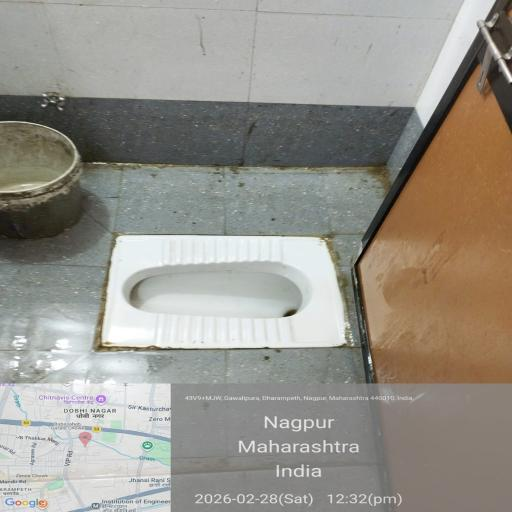clean_floor: (51, 20, 478, 148)
clean_indian: (69, 226, 398, 357)
partial_dirty_floor: (41, 222, 481, 511)
